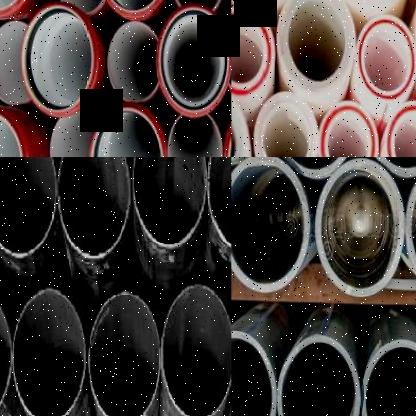pipe: (314, 158, 404, 298), (231, 157, 309, 293), (10, 283, 88, 416), (84, 288, 163, 416), (160, 282, 232, 416), (156, 3, 231, 117), (21, 3, 95, 112), (54, 157, 130, 257), (276, 0, 355, 92), (129, 157, 208, 248), (277, 334, 361, 416), (0, 157, 59, 259), (355, 15, 416, 101), (252, 90, 318, 157), (361, 338, 416, 416), (107, 20, 158, 104), (89, 102, 166, 157), (231, 5, 276, 97), (231, 330, 276, 416), (319, 100, 378, 157), (0, 21, 32, 104), (204, 157, 231, 252), (49, 107, 99, 157), (168, 115, 222, 157), (0, 286, 14, 416), (386, 101, 416, 157), (404, 158, 416, 295), (0, 108, 23, 157), (53, 0, 105, 17), (172, 0, 225, 11)
